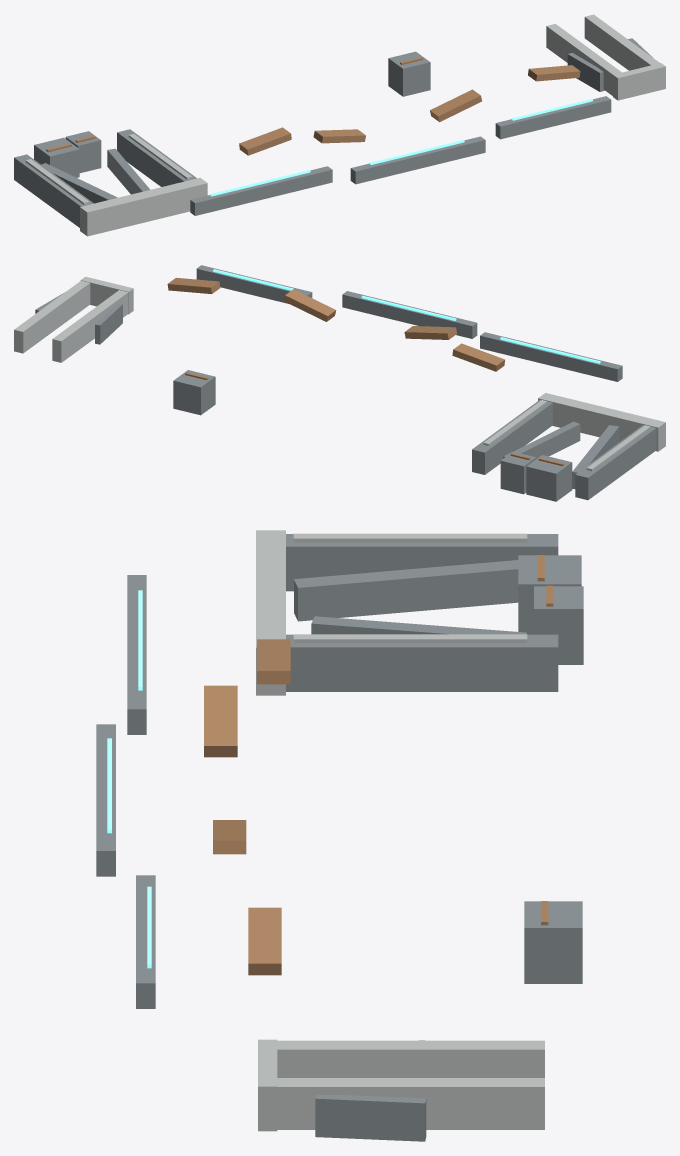
File: wayfarer-scar-setdress-m0-v2.glb
3 renders of one model, top to bottom at view 1: azimuth 30°, elevation 25°; view 2: azimuth 150°, elevation 25°; view 3: azimuth 270°, elevation 25°, orthographic. The views are drawn at different scales.
Visible parts, largest first — view 1: Scar_CeramicAssembly, Scar_ServiceSpine, Scar_TransitBulkhead, Scar_CargoCluster, Scar_DamageAssembly, Scar_ResonanceAssembly, Scar_ShellAssembly; view 2: Scar_CeramicAssembly, Scar_TransitBulkhead, Scar_ServiceSpine, Scar_CargoCluster, Scar_DamageAssembly, Scar_ResonanceAssembly, Scar_ShellAssembly; view 3: Scar_TransitBulkhead, Scar_CeramicAssembly, Scar_CargoCluster, Scar_DamageAssembly, Scar_ServiceSpine, Scar_ShellAssembly, Scar_ResonanceAssembly.
Boxes of the visible parts, x1,y1,x2,y2 form: Scar_CeramicAssembly: [25, 14, 665, 236]; Scar_ServiceSpine: [190, 96, 611, 215]; Scar_TransitBulkhead: [14, 129, 196, 227]; Scar_CargoCluster: [34, 51, 430, 177]; Scar_DamageAssembly: [46, 57, 580, 155]; Scar_ResonanceAssembly: [210, 99, 592, 196]; Scar_ShellAssembly: [567, 38, 652, 91]; Scar_CeramicAssembly: [14, 276, 665, 471]; Scar_TransitBulkhead: [472, 399, 656, 500]; Scar_ServiceSpine: [196, 265, 622, 381]; Scar_CargoCluster: [173, 370, 572, 501]; Scar_DamageAssembly: [167, 277, 564, 466]; Scar_ResonanceAssembly: [213, 269, 600, 363]; Scar_ShellAssembly: [35, 292, 122, 344]; Scar_TransitBulkhead: [286, 534, 558, 691]; Scar_CeramicAssembly: [256, 530, 544, 1131]; Scar_CargoCluster: [518, 555, 583, 983]; Scar_DamageAssembly: [204, 555, 553, 975]; Scar_ServiceSpine: [96, 575, 155, 1008]; Scar_ShellAssembly: [315, 1040, 426, 1141]; Scar_ResonanceAssembly: [107, 590, 151, 968].
Size of the model in its own units: 15.37 by 1.46 by 5.52.
